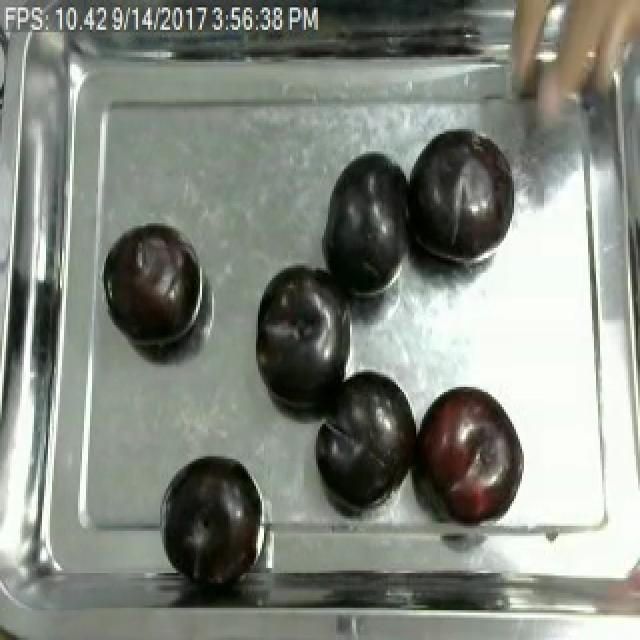Fruit: (400, 121, 522, 273), (410, 379, 526, 528), (308, 365, 426, 511), (316, 146, 418, 303), (158, 446, 268, 586), (250, 258, 350, 412), (100, 221, 200, 350)
